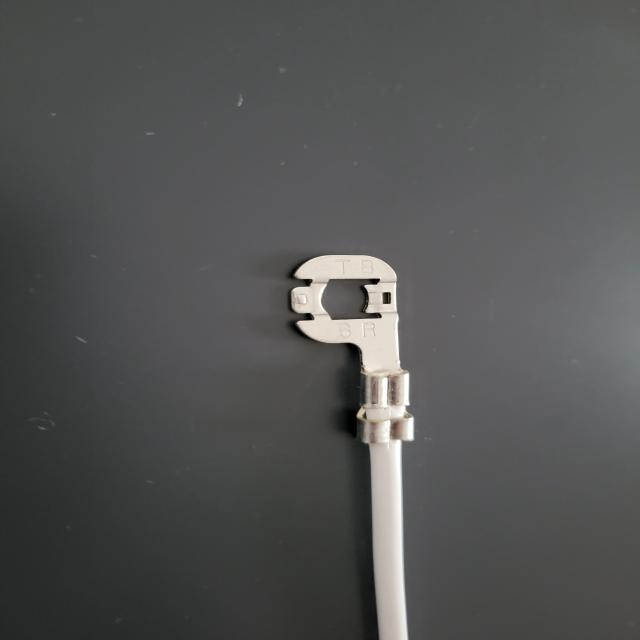defect: (320, 358, 475, 452)
